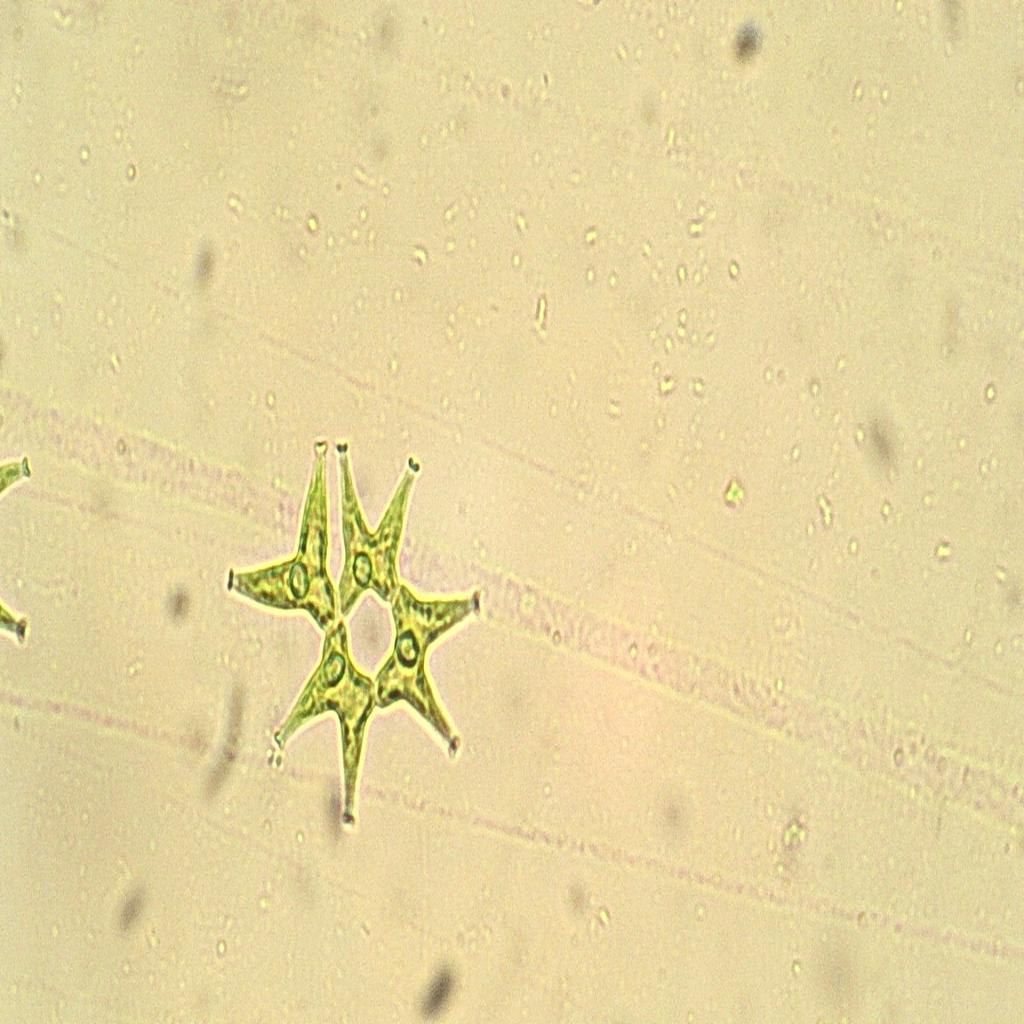Pediastrum_75FI: (212, 415, 492, 853)
